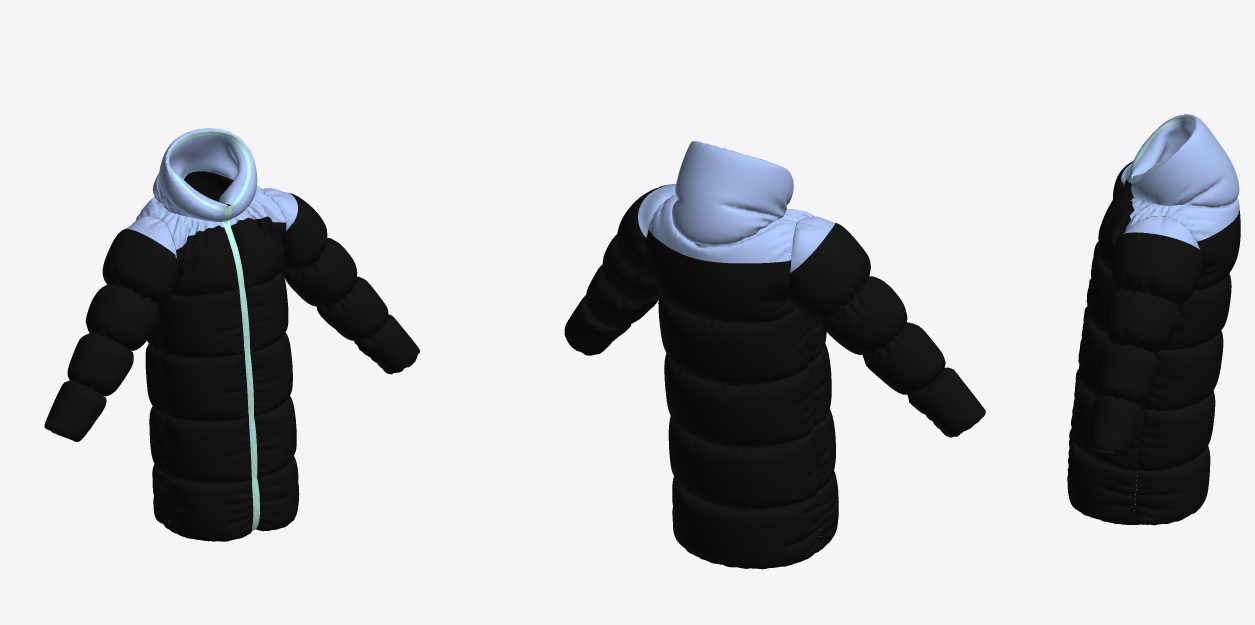
The model's file is Puffer.glb.
3 renders of one model, left to right at view 1: azimuth 30°, elevation 25°; view 2: azimuth 150°, elevation 25°; view 3: azimuth 270°, elevation 25°, orthographic. The views are drawn at different scales.
Parts seen in each view (by area): view 1: Puffer; view 2: Puffer; view 3: Puffer.
Boxes of the visible parts, x1,y1,x2,y2 form: Puffer: (44,128,419,541); Puffer: (564,141,985,569); Puffer: (1067,114,1240,525).
Size of the model in its own units: 1.33 by 1.34 by 0.4395.
